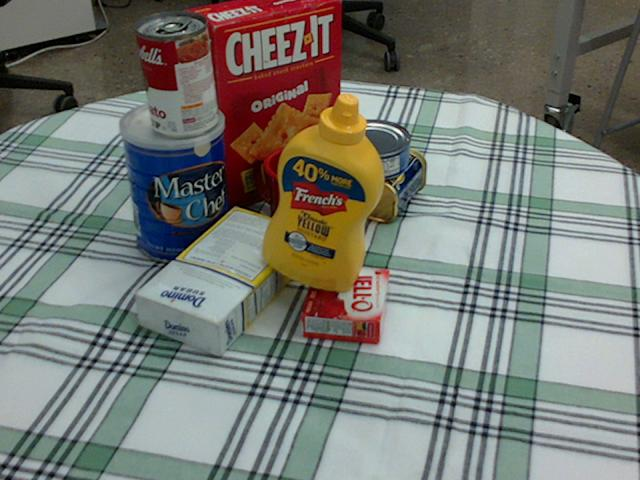cracker_box: (184, 0, 341, 208)
gelatin_box: (301, 263, 388, 342)
master_chef_can: (118, 98, 231, 263)
mug: (254, 140, 349, 243)
mustard_bottle: (262, 92, 384, 291)
potted_meat_can: (315, 133, 424, 220)
sugar_box: (134, 205, 310, 355)
tomato_soup_can: (136, 11, 217, 136)
tuna_fish_can: (332, 119, 410, 180)
